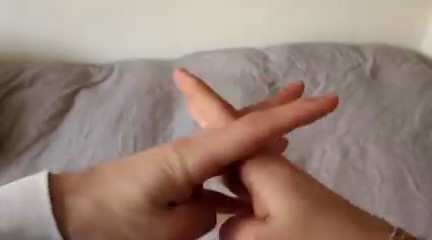W: (103, 57, 382, 240)
